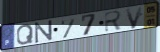7: (60, 16, 77, 40), (81, 13, 98, 37)
N: (34, 19, 54, 44)
Q: (16, 23, 35, 46)
R: (104, 10, 124, 34)
V: (124, 5, 144, 30)
